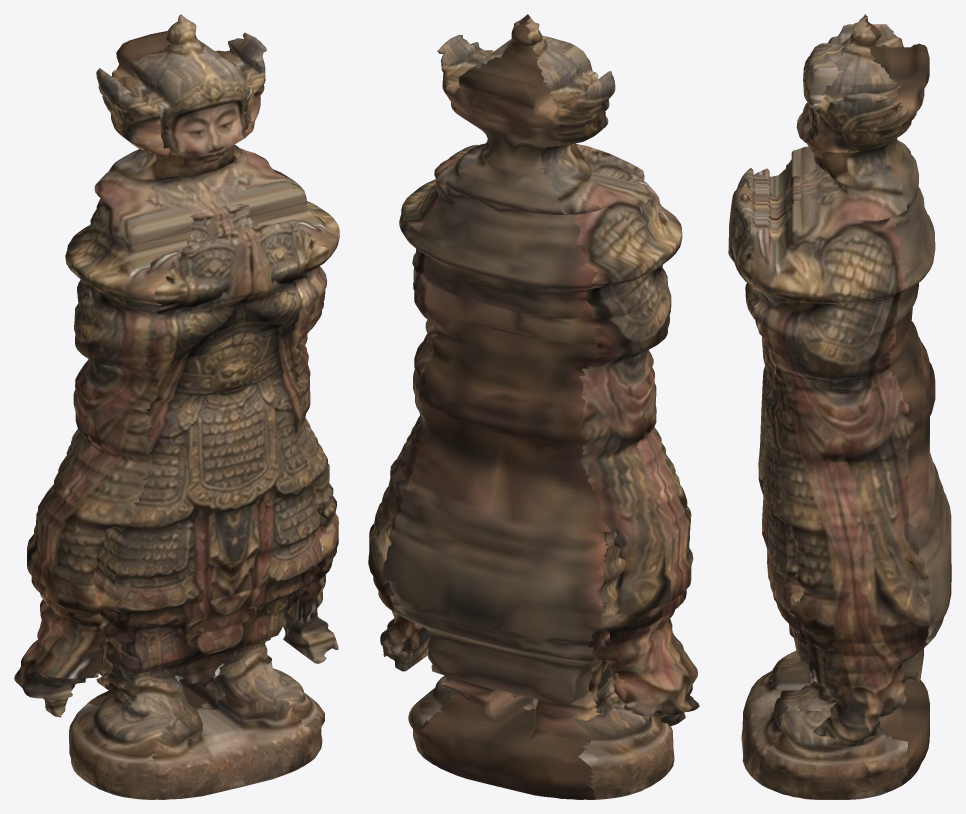
The model's file is weituo.glb.
3 renders of one model, left to right at view 1: azimuth 30°, elevation 25°; view 2: azimuth 150°, elevation 25°; view 3: azimuth 270°, elevation 25°, orthographic. The views are drawn at different scales.
Visible parts, largest first — view 1: weituo; view 2: weituo; view 3: weituo.
Part boxes in pixels (x1,y1,x2,y2): weituo: (14, 14, 339, 799); weituo: (368, 14, 699, 799); weituo: (728, 14, 951, 799).
Bounding box in the file's own units: 0.439 × 1.01 × 0.2777.
1 material, 1 textured.
